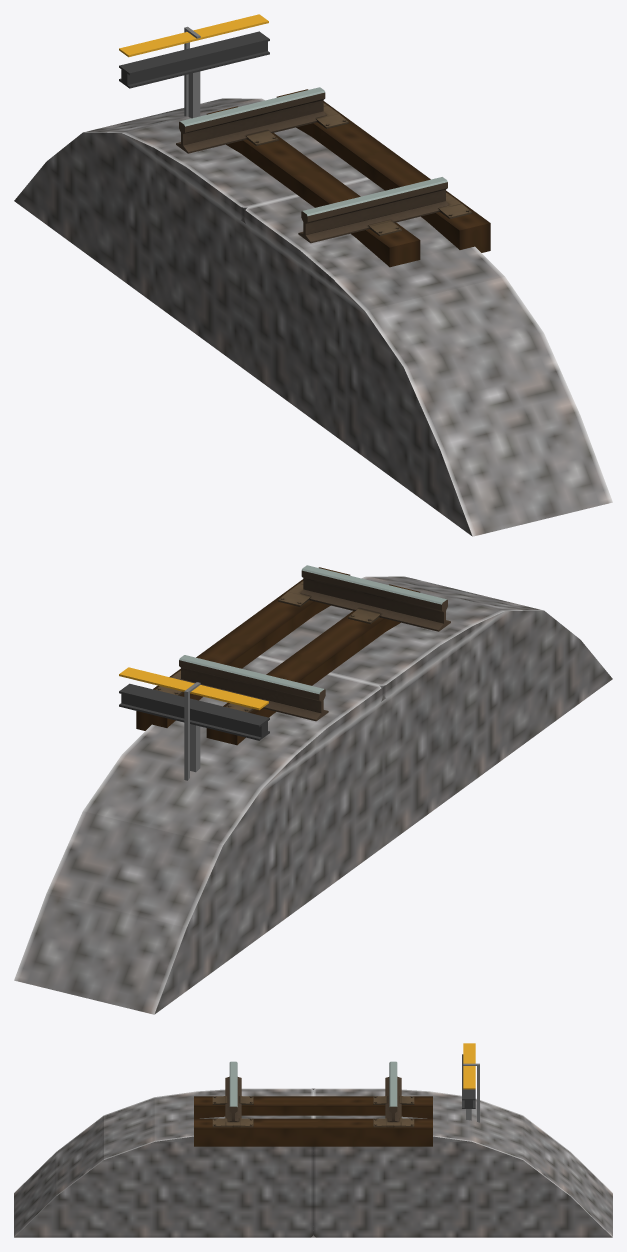
The model's file is spsf_3rdrail_ballast_2.obj.
3 renders of one model, top to bottom at view 1: azimuth 30°, elevation 25°; view 2: azimuth 150°, elevation 25°; view 3: azimuth 270°, elevation 25°, orthographic. The views are drawn at different scales.
Parts seen in each view (by area): view 1: RAIL_BASE.001_Cube.009, RAIL_BASE_Cube.001, RAIL_BASE.006_RAIL_BASE.004, RAIL_LEFT_Cube.002, RAIL_RIGHT_Cube.010, RAIL_BASE.002_RAIL_BASE.007, RAIL_BASE.003_RAIL_BASE.006, RAIL_BASE.004_RAIL_BASE.008, RAIL_BASE.005_Cube.003; view 2: RAIL_BASE.001_Cube.009, RAIL_BASE_Cube.001, RAIL_BASE.006_RAIL_BASE.004, RAIL_LEFT_Cube.002, RAIL_RIGHT_Cube.010, RAIL_BASE.002_RAIL_BASE.007, RAIL_BASE.003_RAIL_BASE.006, RAIL_BASE.004_RAIL_BASE.008, RAIL_BASE.005_Cube.003; view 3: RAIL_BASE.001_Cube.009, RAIL_BASE.003_RAIL_BASE.006, RAIL_BASE_Cube.001, RAIL_BASE.002_RAIL_BASE.007, RAIL_BASE.004_RAIL_BASE.008, RAIL_BASE.005_Cube.003, RAIL_BASE.006_RAIL_BASE.004, RAIL_LEFT_Cube.002, RAIL_RIGHT_Cube.010.
Boxes of the visible parts, x1,y1,x2,y2 form: RAIL_BASE.001_Cube.009: (14,98,612,536); RAIL_BASE_Cube.001: (122,99,504,310); RAIL_BASE.006_RAIL_BASE.004: (119,14,269,118); RAIL_LEFT_Cube.002: (298,177,448,243); RAIL_RIGHT_Cube.010: (176,87,326,153); RAIL_BASE.002_RAIL_BASE.007: (277,89,490,252); RAIL_BASE.003_RAIL_BASE.006: (206,97,459,266); RAIL_BASE.004_RAIL_BASE.008: (207,106,420,267); RAIL_BASE.005_Cube.003: (246,103,472,236); RAIL_BASE.001_Cube.009: (14,576,612,1014); RAIL_BASE_Cube.001: (122,577,504,788); RAIL_BASE.006_RAIL_BASE.004: (119,667,269,780); RAIL_LEFT_Cube.002: (300,565,450,631); RAIL_RIGHT_Cube.010: (179,655,328,721); RAIL_BASE.002_RAIL_BASE.007: (136,567,349,730); RAIL_BASE.003_RAIL_BASE.006: (167,575,420,744); RAIL_BASE.004_RAIL_BASE.008: (206,584,419,745); RAIL_BASE.005_Cube.003: (155,581,380,712); RAIL_BASE.001_Cube.009: (14,1097,612,1237); RAIL_BASE.003_RAIL_BASE.006: (194,1106,432,1146); RAIL_BASE_Cube.001: (154,1088,472,1141); RAIL_BASE.002_RAIL_BASE.007: (194,1118,432,1128); RAIL_BASE.004_RAIL_BASE.008: (194,1096,432,1106); RAIL_BASE.005_Cube.003: (212,1096,414,1127); RAIL_BASE.006_RAIL_BASE.004: (462,1043,479,1122); RAIL_LEFT_Cube.002: (225,1061,241,1121); RAIL_RIGHT_Cube.010: (385,1061,401,1121).
Bounding box in the file's own units: 1.11 × 1.58 × 5.66.
2 materials, 2 textured.
